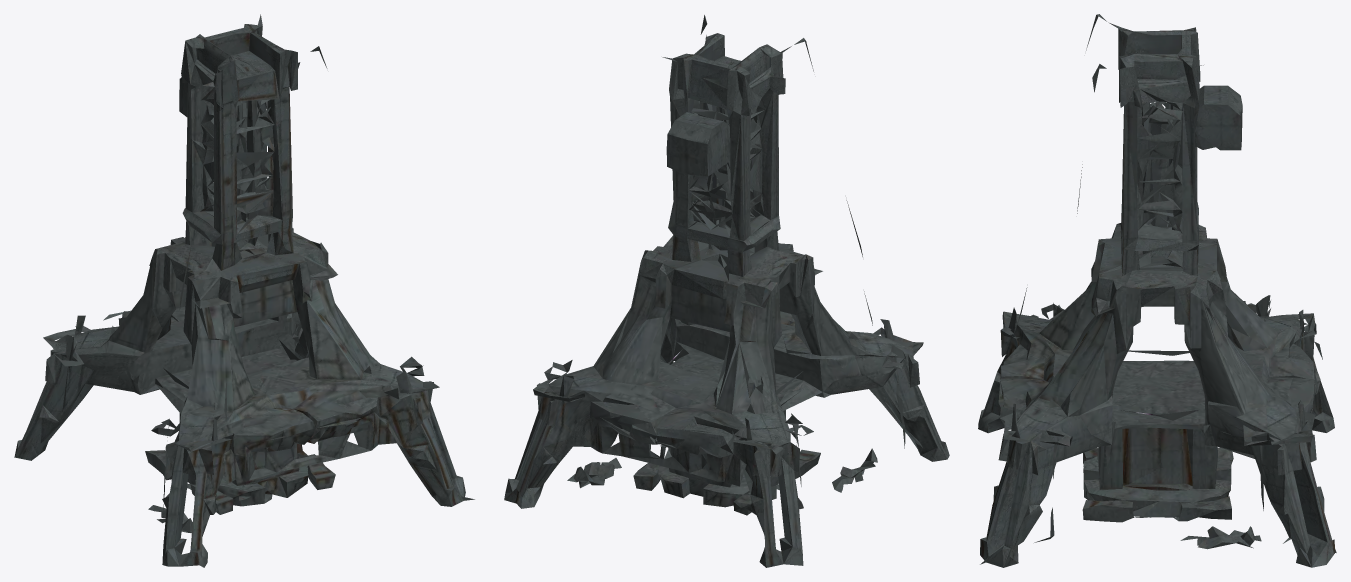
The model's file is elevator_foundation.glb.
3 renders of one model, left to right at view 1: azimuth 30°, elevation 25°; view 2: azimuth 150°, elevation 25°; view 3: azimuth 270°, elevation 25°, orthographic. The views are drawn at different scales.
Size of the model in its own units: 28.99 by 40 by 28.67.
1 material, 1 textured.
